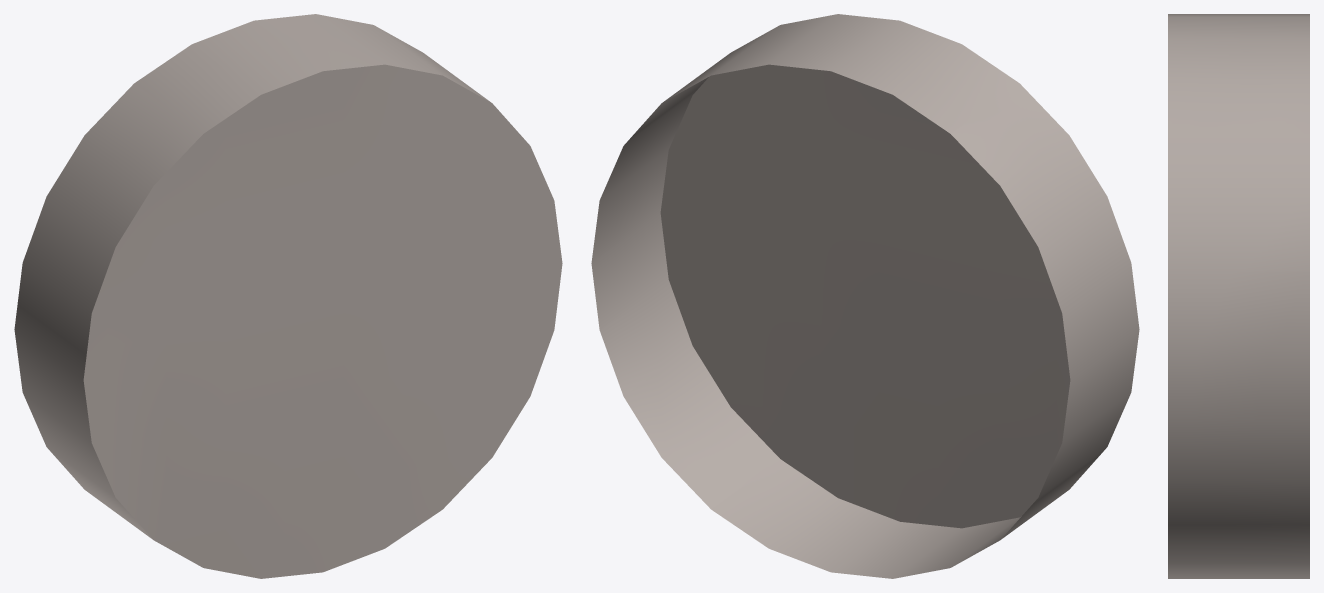
The model's file is original-30.obj.
3 renders of one model, left to right at view 1: azimuth 30°, elevation 25°; view 2: azimuth 150°, elevation 25°; view 3: azimuth 270°, elevation 25°, orthographic. The views are drawn at different scales.
Visible parts, largest first — view 1: #ID226; view 2: #ID226; view 3: #ID226.
Boxes of the visible parts, box(x1,y1,x2,y2) form: #ID226: box(14, 14, 562, 578); #ID226: box(591, 14, 1139, 578); #ID226: box(1168, 14, 1309, 578).
Bounding box in the file's own units: 0.0104 × 0.0104 × 0.00259.
